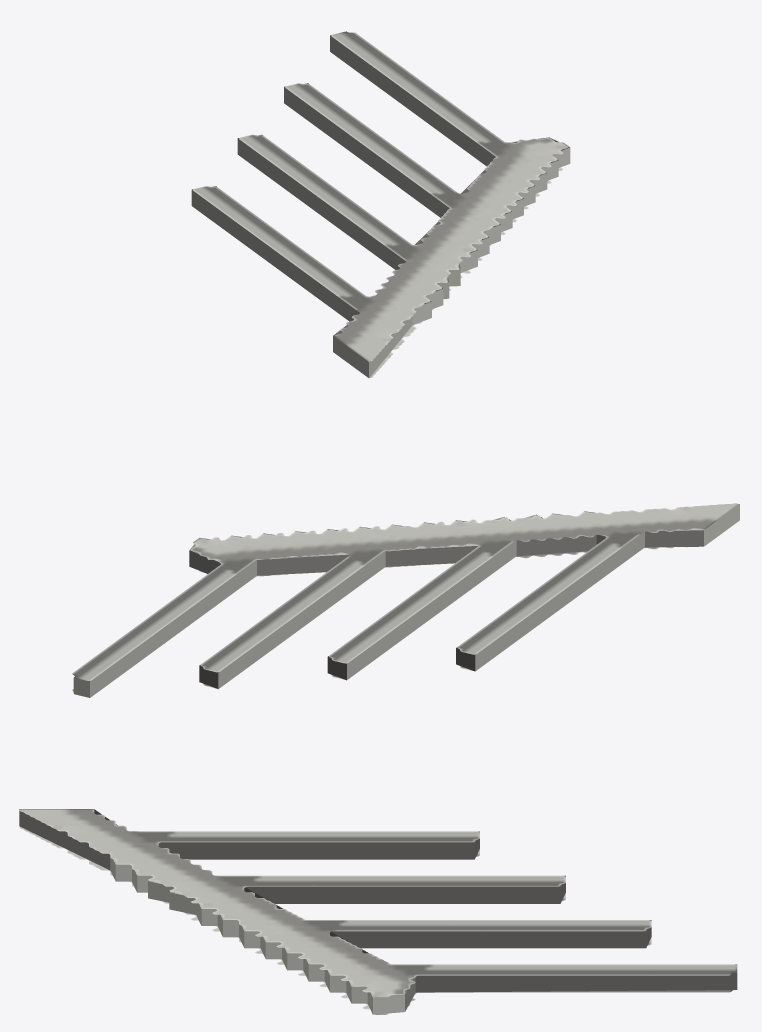
Rendered from pz_native_fixtures_railings_01_86_frame.obj.
3 renders of one model, top to bottom at view 1: azimuth 30°, elevation 25°; view 2: azimuth 150°, elevation 25°; view 3: azimuth 270°, elevation 25°, orthographic. The views are drawn at different scales.
Parts seen in each view (by area): view 1: pz_native_fixtures_railings_01_86_frame; view 2: pz_native_fixtures_railings_01_86_frame; view 3: pz_native_fixtures_railings_01_86_frame.
Boxes of the visible parts, x1,y1,x2,y2 form: pz_native_fixtures_railings_01_86_frame: (191, 31, 570, 377); pz_native_fixtures_railings_01_86_frame: (72, 503, 739, 697); pz_native_fixtures_railings_01_86_frame: (19, 809, 737, 1014).
Size of the model in its own units: 1.09 by 0.045 by 1.75.
Materials: 1 (1 with a texture image).
